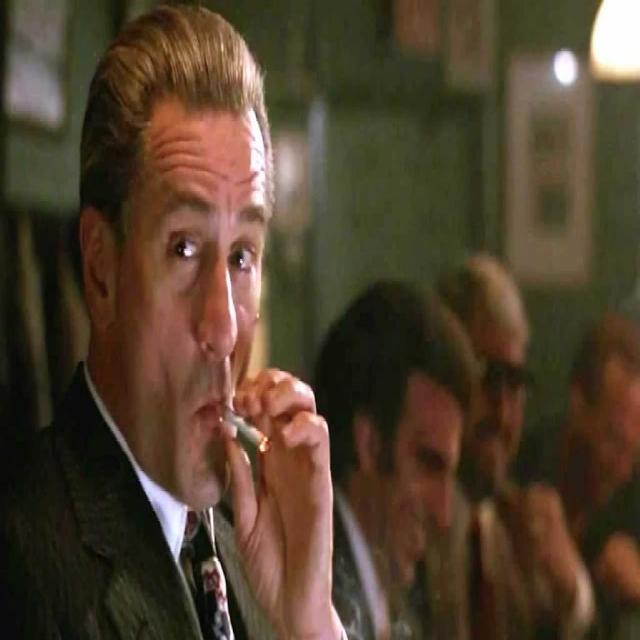smoking: (79, 13, 332, 631)
